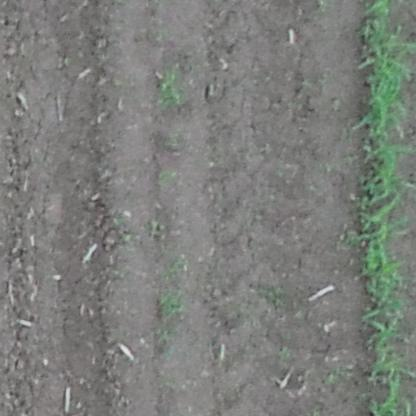corn: (358, 2, 415, 416), (152, 59, 183, 114)
